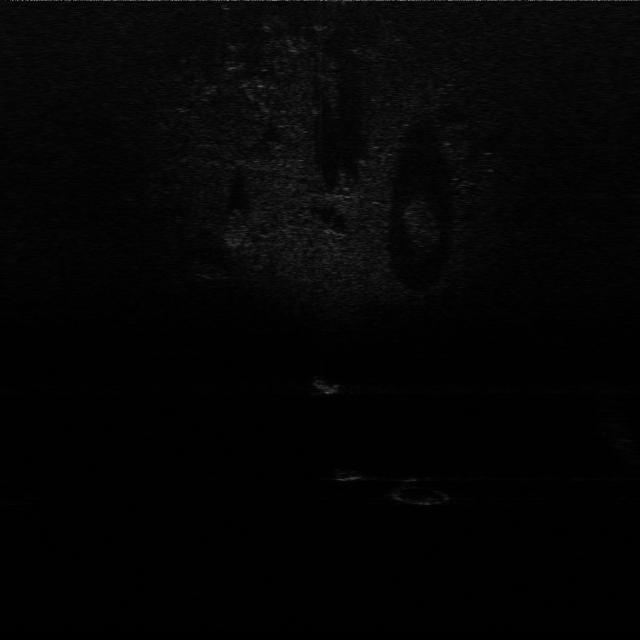cube: (330, 456, 376, 484)
square cage: (312, 371, 349, 398)
tyre: (394, 471, 454, 511)
